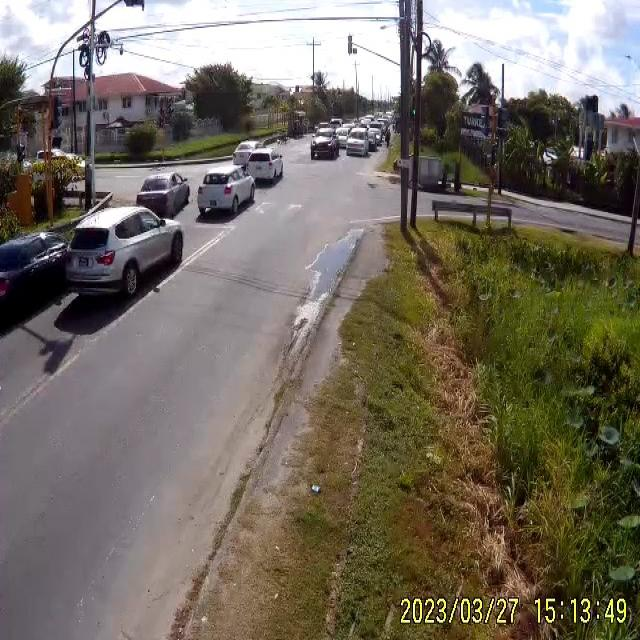car: (64, 202, 185, 298), (0, 230, 70, 336), (197, 169, 256, 221), (136, 172, 189, 217), (238, 148, 286, 186), (309, 132, 339, 158), (345, 136, 367, 155), (366, 128, 384, 148)
